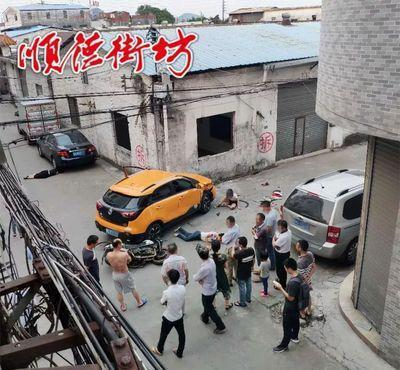Fall-Detected: (215, 184, 239, 209)
